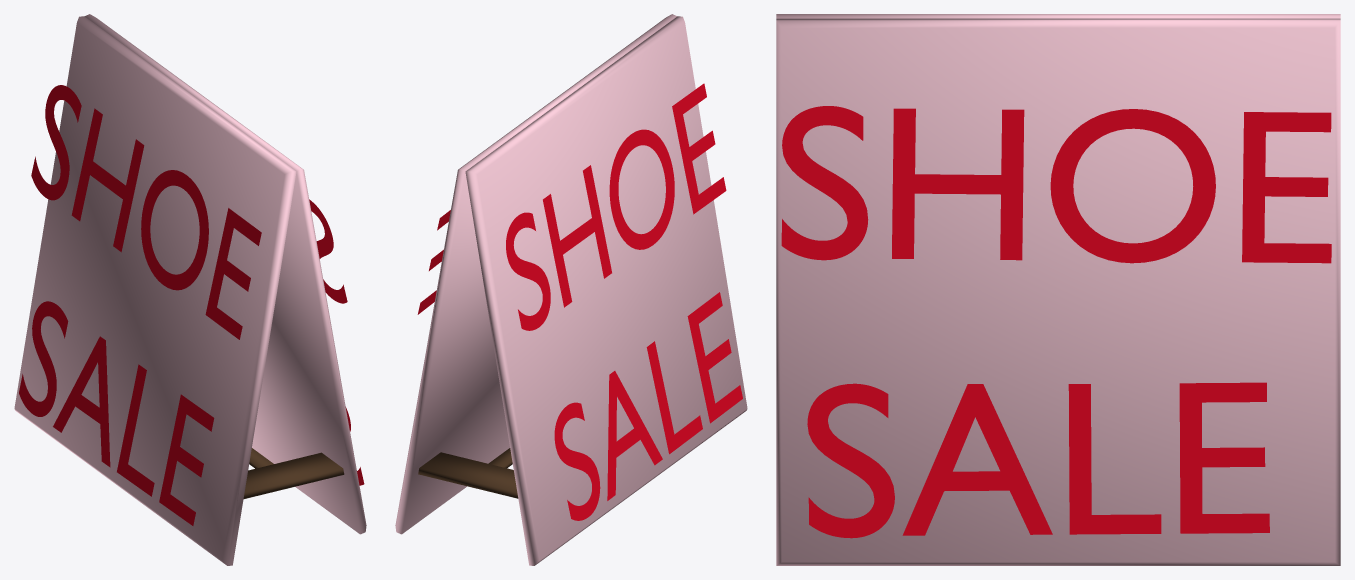
File: Board sign.gltf
3 renders of one model, left to right at view 1: azimuth 30°, elevation 25°; view 2: azimuth 150°, elevation 25°; view 3: azimuth 270°, elevation 25°, orthographic. The views are drawn at different scales.
Parts seen in each view (by area): view 1: Board 2, Board 1, Text.002, Text.003, Plank 3, Text; view 2: Board 2, Board 1, Text.002, Text.003, Plank 2, Text; view 3: Board 1, Text, Text.001, Board 2.
Part boxes in pixels (<box>): Board 2: <box>14,16,296,565</box>; Board 1: <box>84,14,366,534</box>; Text.002: <box>31,85,261,339</box>; Text.003: <box>19,301,214,525</box>; Plank 3: <box>243,452,344,498</box>; Text: <box>309,199,347,303</box>; Board 2: <box>465,16,747,565</box>; Board 1: <box>395,14,677,534</box>; Text.002: <box>506,83,726,330</box>; Text.003: <box>554,292,742,520</box>; Plank 2: <box>418,452,518,498</box>; Text: <box>417,210,450,314</box>; Board 1: <box>776,18,1340,565</box>; Text: <box>781,106,1331,263</box>; Text.001: <box>807,382,1269,538</box>; Board 2: <box>776,14,1340,18</box>.
Size of the model in its own units: 0.922 by 1.97 by 2.
